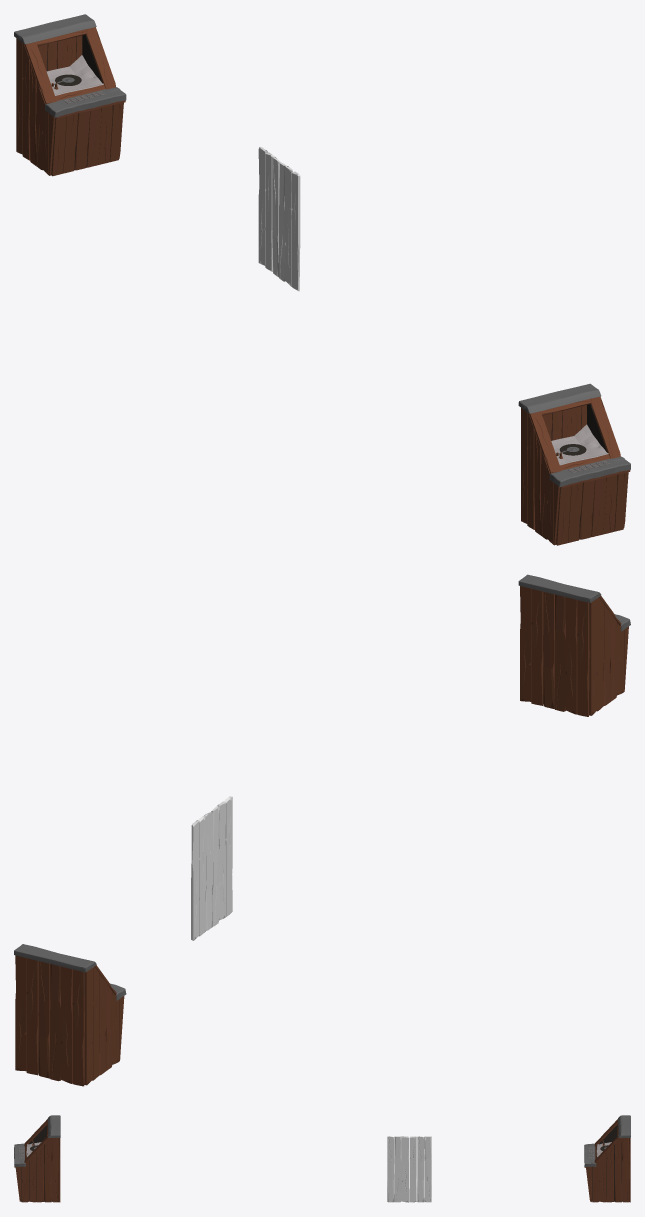
File: jukebox (1).fbx
The picture shows the model from 3 angles, top to bottom: view 1: azimuth 30°, elevation 25°; view 2: azimuth 150°, elevation 25°; view 3: azimuth 270°, elevation 25°; orthographic projection. The views are drawn at different scales.
Visible parts, largest first — view 1: Plane.001, Plane.018, Plane.005, Plane.016, Plane.003, Cube.005, Cube.001, Plane.022, Plane.009, Plane.028, Plane.013, Plane (+5 smaller); view 2: Plane.029, Plane.014, Plane.001, Plane.016, Plane.003, Plane.009, Plane.022; view 3: Plane.001, Plane.002, Plane.015, Frame.001, Frame, Plane.009, Plane.022, Cube.001, Cube.005, Plane.014.
Part boxes in pixels (x1,y1,x2,y2): Plane.001: (258, 146, 300, 291); Plane.018: (51, 103, 122, 176); Plane.005: (556, 472, 627, 545); Plane.016: (16, 38, 55, 175); Plane.003: (521, 408, 559, 545); Cube.005: (549, 456, 630, 487); Cube.001: (45, 87, 126, 117); Plane.022: (14, 14, 96, 44); Plane.009: (518, 383, 601, 413); Plane.028: (38, 35, 82, 71); Plane.013: (542, 405, 586, 440); Plane: (551, 424, 608, 465); Plane.029: (15, 955, 84, 1086); Plane.014: (520, 586, 589, 716); Plane.001: (191, 796, 232, 940); Plane.016: (84, 966, 124, 1085); Plane.003: (589, 597, 628, 715); Plane.009: (518, 574, 601, 602); Plane.022: (14, 944, 96, 972); Plane.001: (387, 1136, 431, 1202); Plane.002: (16, 1138, 58, 1202); Plane.015: (586, 1138, 628, 1202); Frame.001: (592, 1125, 621, 1201); Frame: (21, 1125, 51, 1201); Plane.009: (47, 1115, 60, 1137); Plane.022: (618, 1115, 630, 1137); Cube.001: (584, 1143, 596, 1166); Cube.005: (14, 1143, 25, 1166); Plane.014: (58, 1138, 60, 1202).
Size of the model in its own units: 222 by 354 by 2897.
